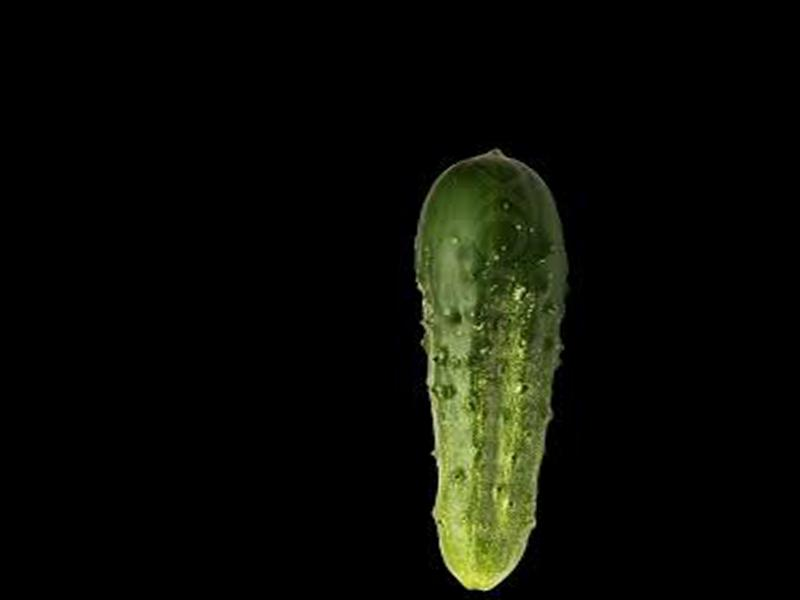Cucumber: (405, 147, 574, 592)
